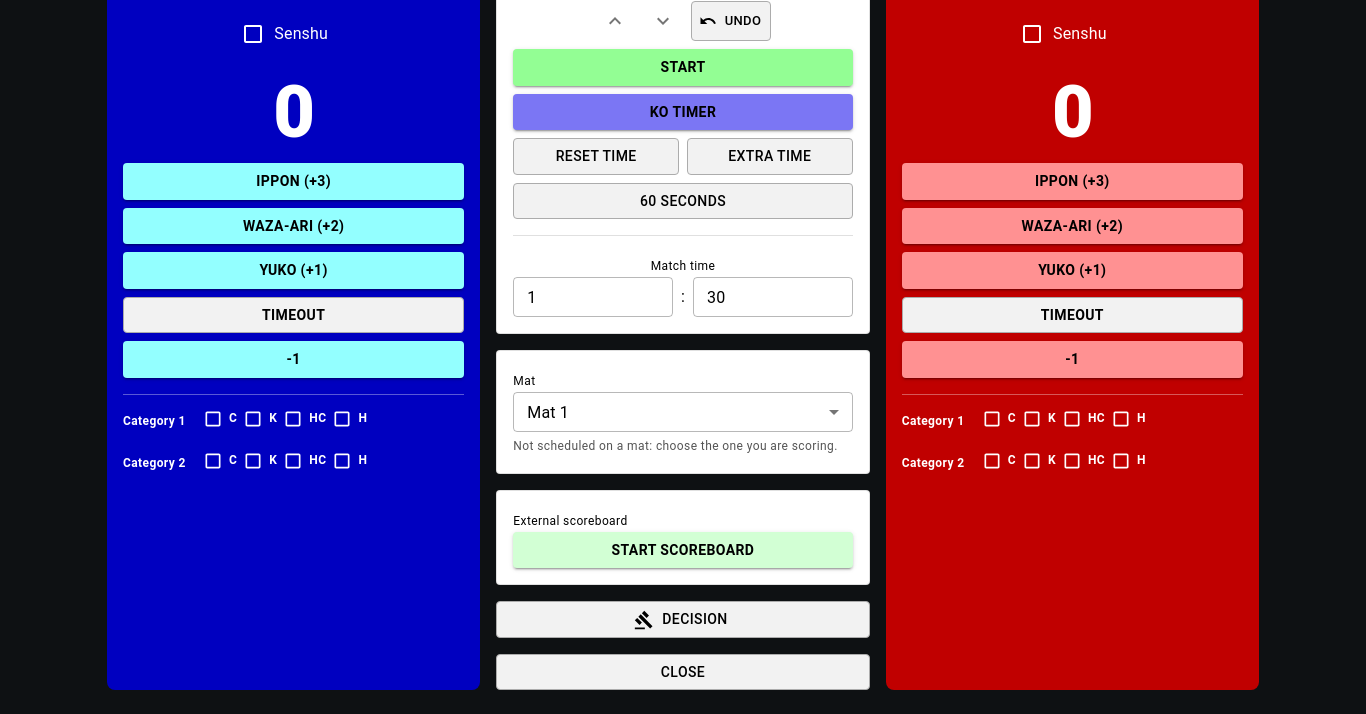
KumiteConsole closing a level bout › asks for a decision instead of saving a draw when the bout needs a winner
(page scrolled)
Click the button "Close": (683, 672) [496,654,870,690]
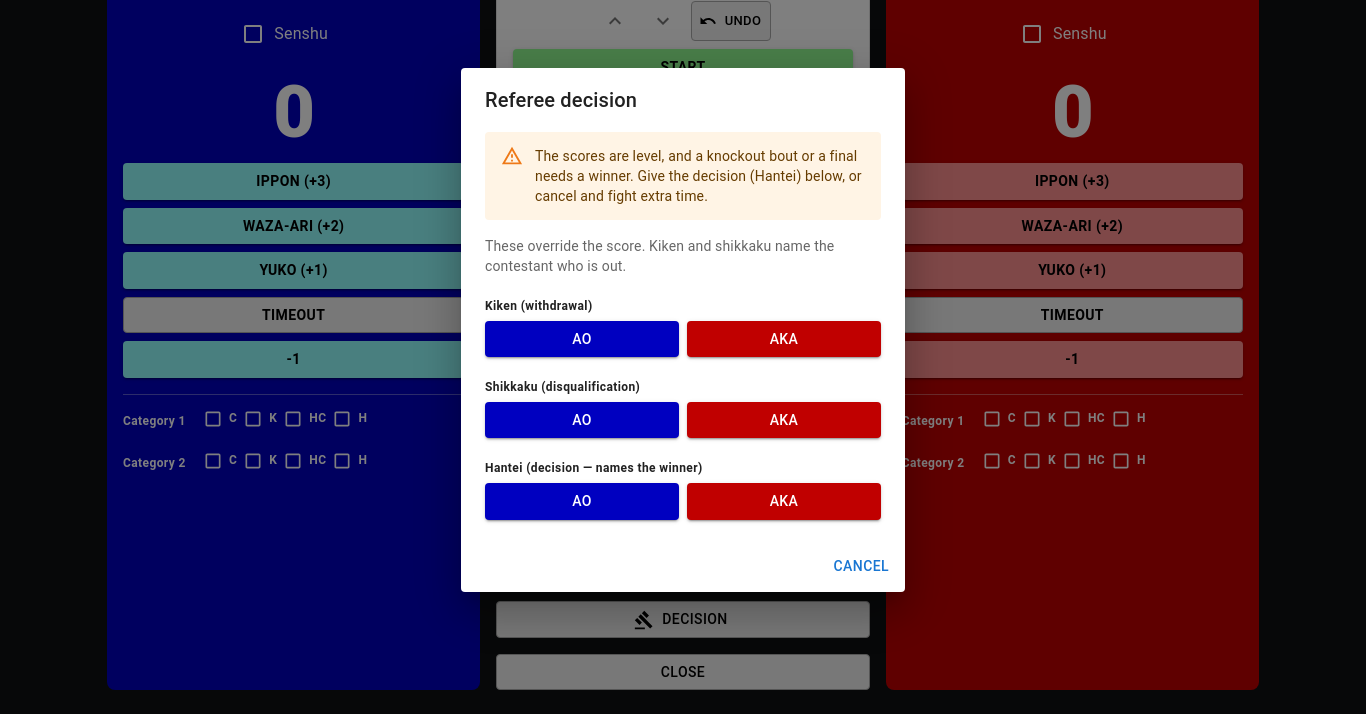
Expected: the text "a knockout bout or a final needs a winner" is shown, [535,148,862,204]
Expected: the dialog "Referee decision" is shown, [461,68,905,592]
